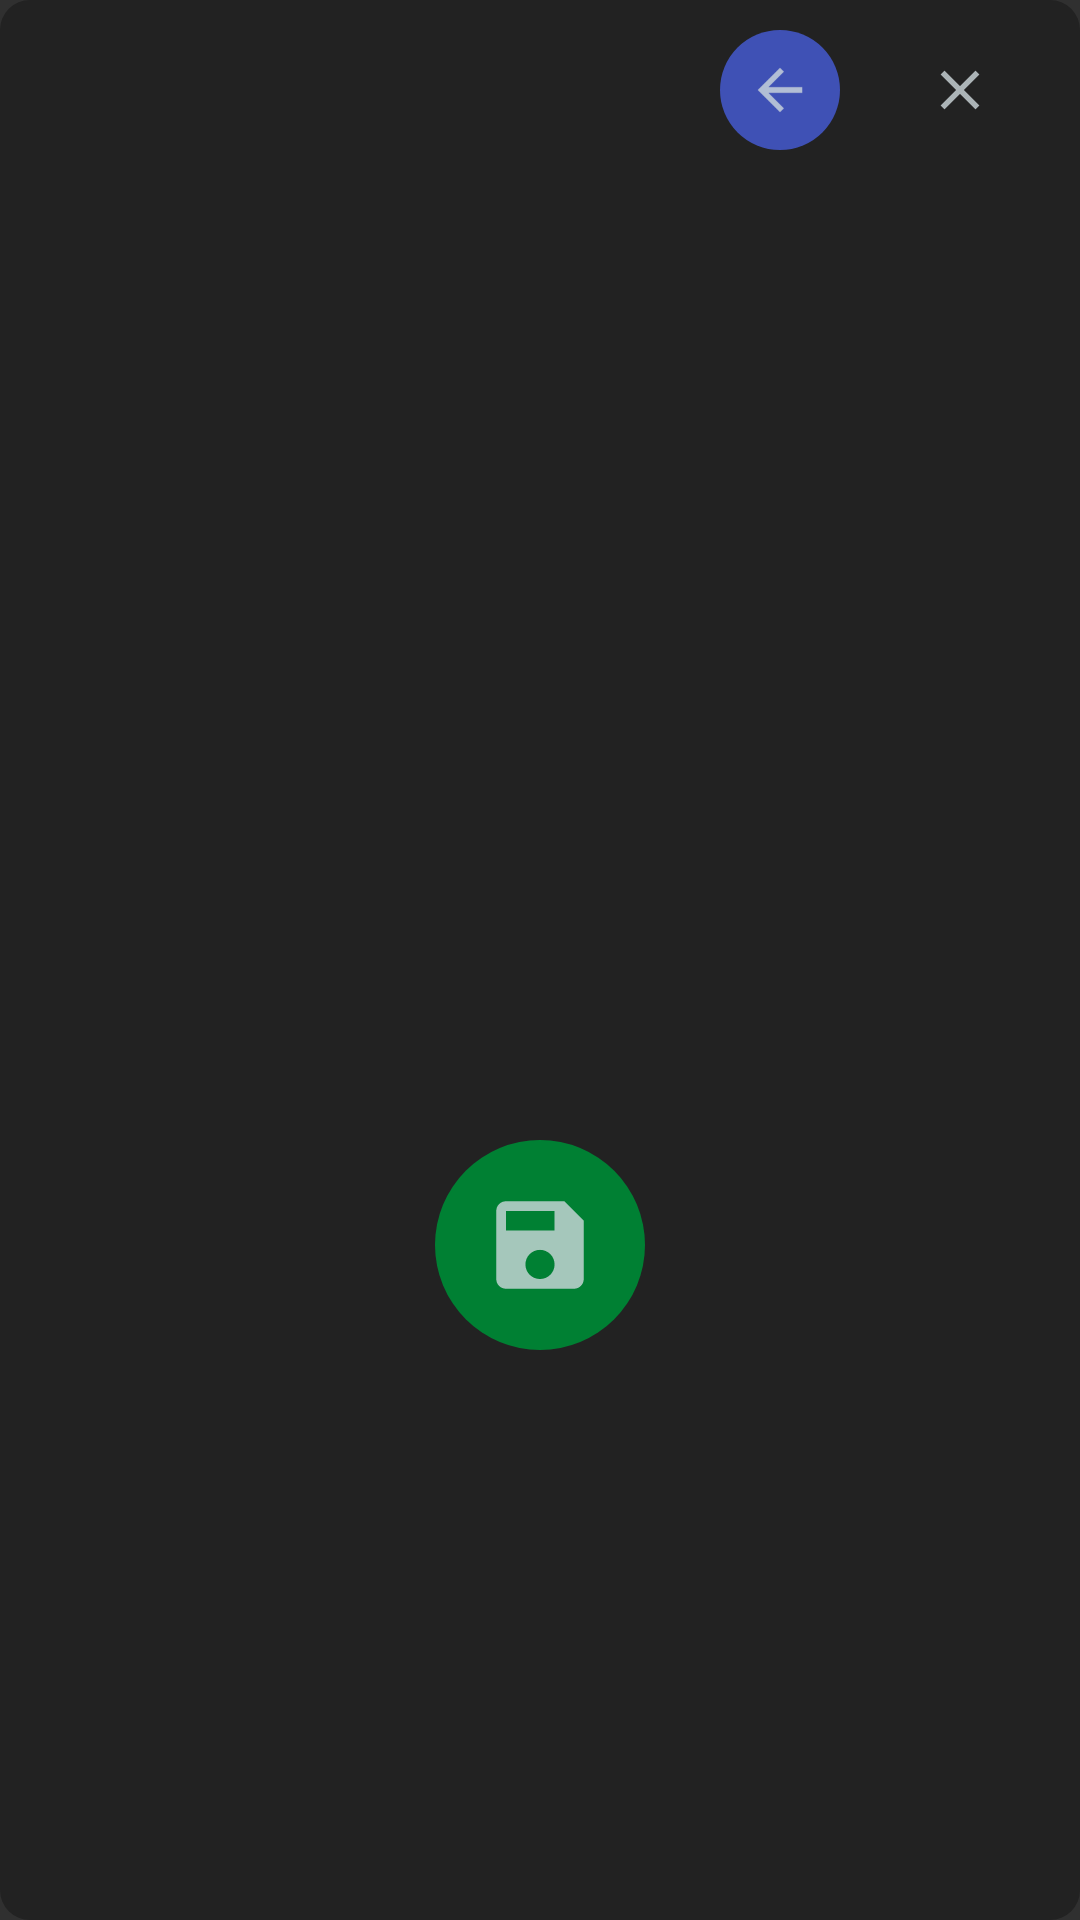

Point at icon controls on the screen. Image size 1080x1920, points as (x=x, y=y).
Back: (x=780, y=90)
Close: (x=960, y=90)
Save: (x=540, y=1245)
